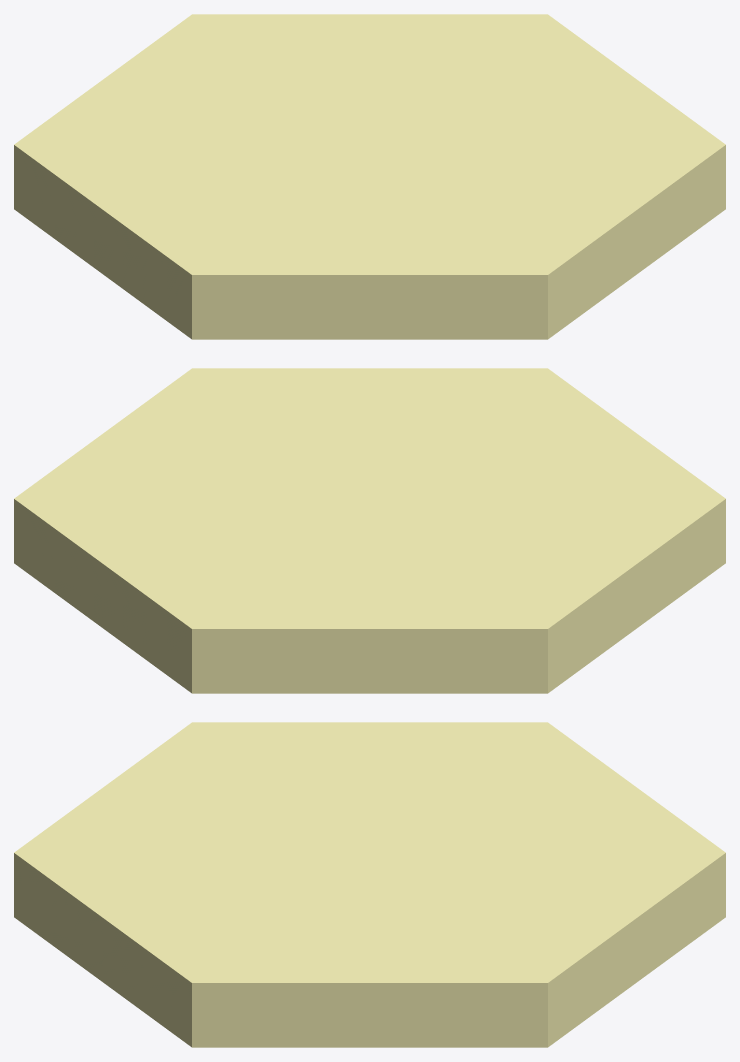
File: stalactite_harvested.fbx
The picture shows the model from 3 angles, top to bottom: view 1: azimuth 30°, elevation 25°; view 2: azimuth 150°, elevation 25°; view 3: azimuth 270°, elevation 25°; orthographic projection.
Visible parts, largest first — view 1: Cylinder; view 2: Cylinder; view 3: Cylinder.
Part boxes in pixels (box(x1,y1,x2,y2)): Cylinder: box(14, 14, 725, 339); Cylinder: box(14, 368, 725, 693); Cylinder: box(14, 722, 725, 1047).
Bounding box in the file's own units: 173 × 20 × 200.
